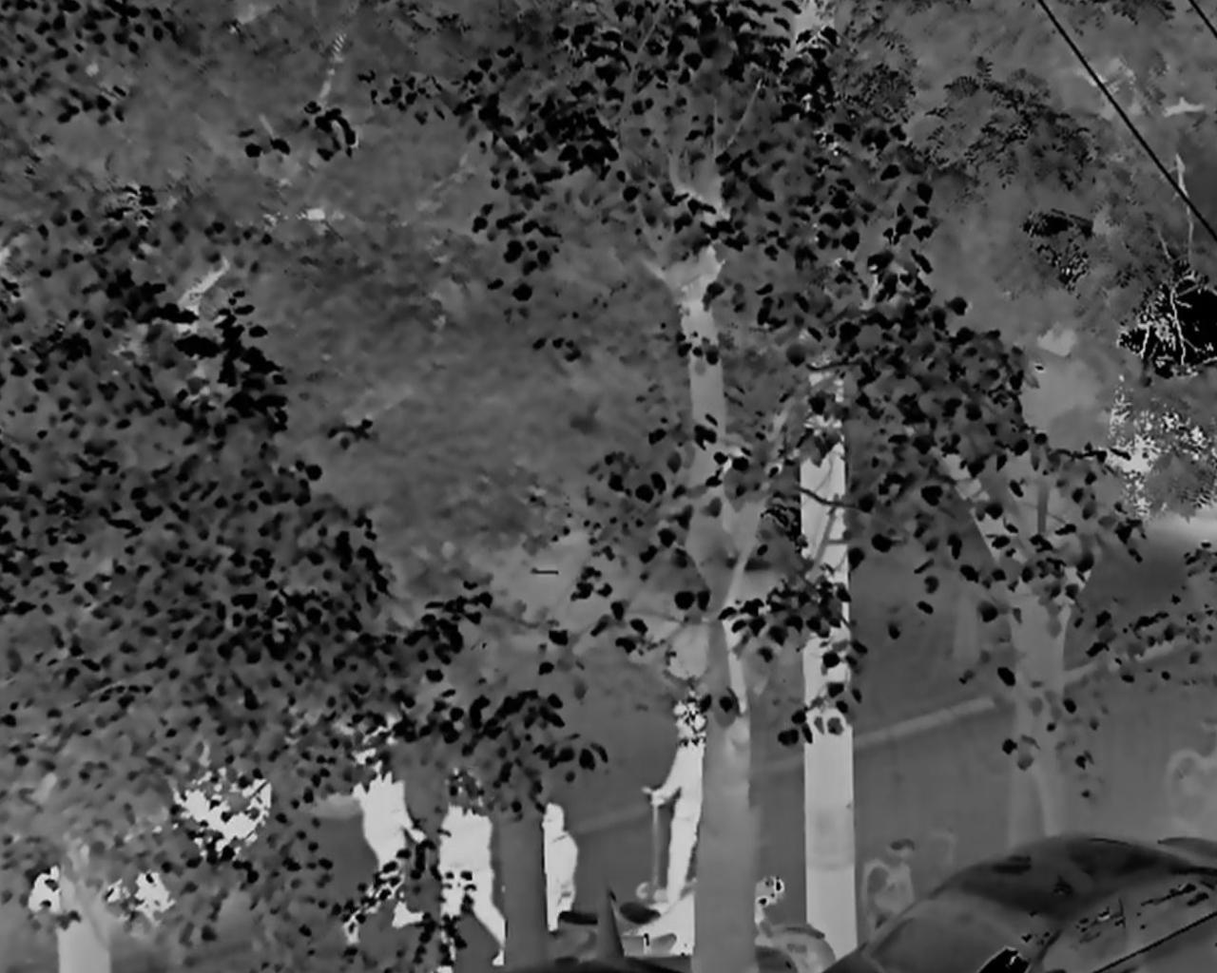person: (340, 727, 426, 944), (437, 768, 509, 973), (645, 698, 705, 913), (541, 797, 580, 930)
